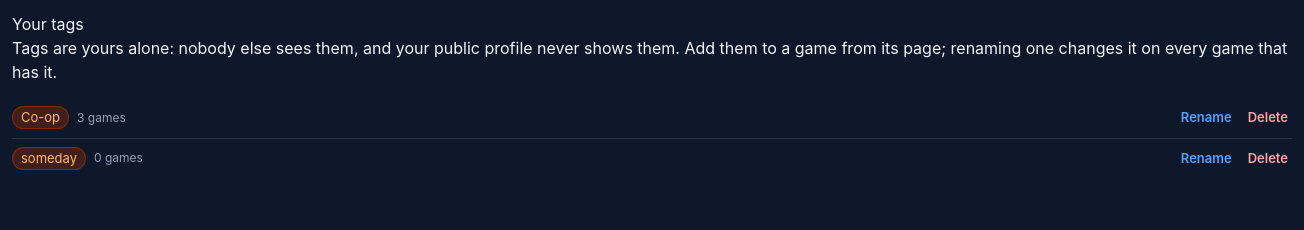
Test case: TagsCard renaming › says above the list that a tag was deleted elsewhere, and moves the focus to the heading
Click the button with aria-label "Rename Co-op" at point(1206, 118), box [1177,106,1236,130]
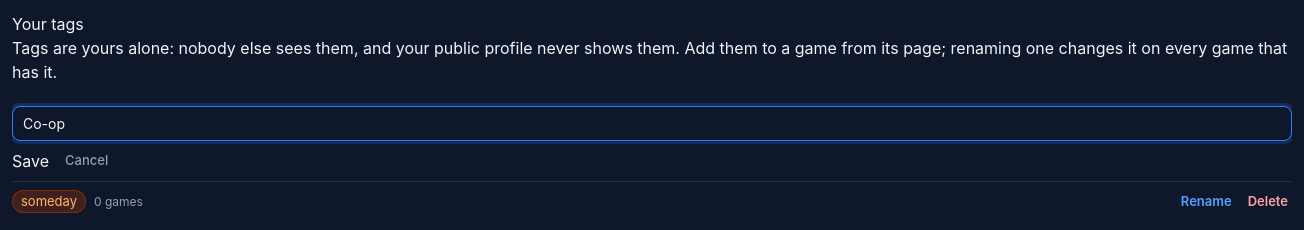
Replace the text in the field named "New name for Co-op" with "Coop" at point(652, 124), box [12,106,1292,141]
Then press Enter
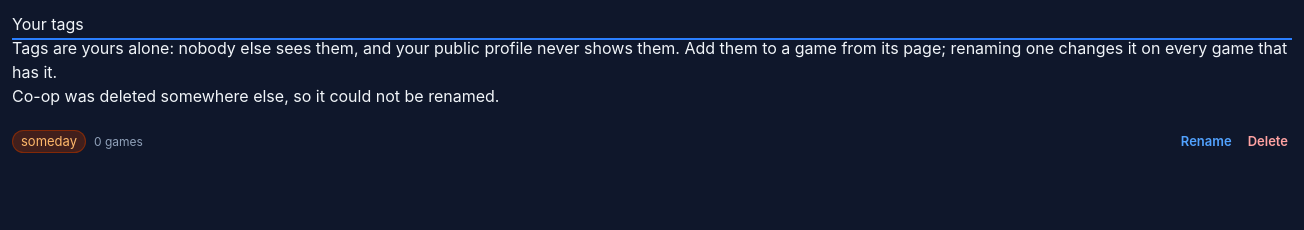
Expected: the message shows "Co-op was deleted somewhere else", [12,86,499,106]
Expected: the field is gone
